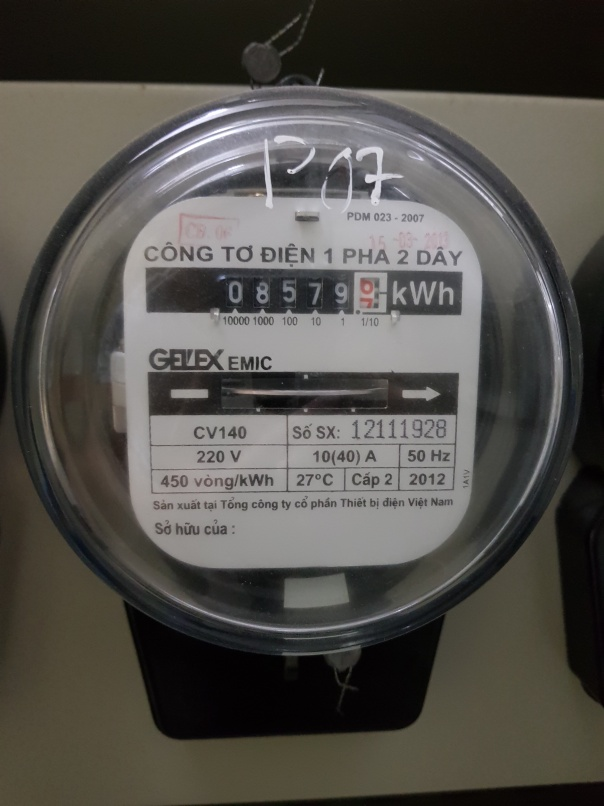counter: (148, 265, 465, 318)
electricity_meter: (19, 88, 583, 665)
